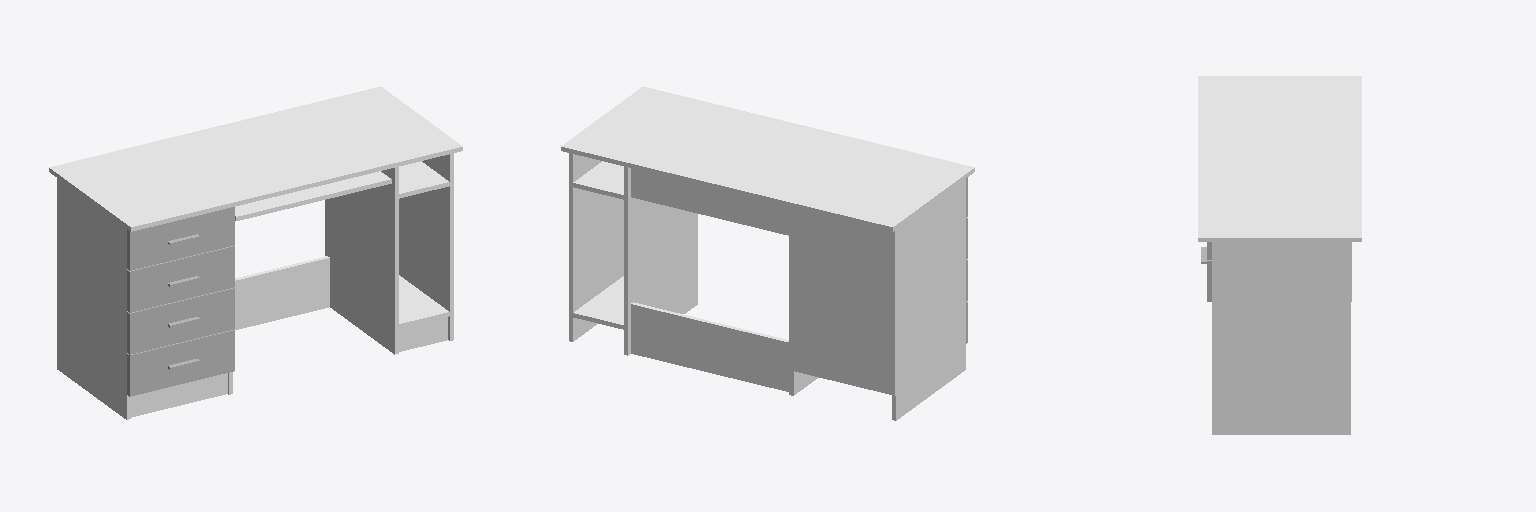
The model's file is desk1.obj.
The picture shows the model from 3 angles: view 1: azimuth 30°, elevation 25°; view 2: azimuth 150°, elevation 25°; view 3: azimuth 270°, elevation 25°; orthographic projection.
Visible parts, largest first — view 1: Computer_desk; view 2: Computer_desk; view 3: Computer_desk.
Part boxes in pixels (bbox=[...]): Computer_desk: bbox=[49, 86, 462, 419]; Computer_desk: bbox=[561, 86, 974, 420]; Computer_desk: bbox=[1198, 76, 1361, 434].
Size of the model in its own units: 1.4 by 0.798 by 0.6.